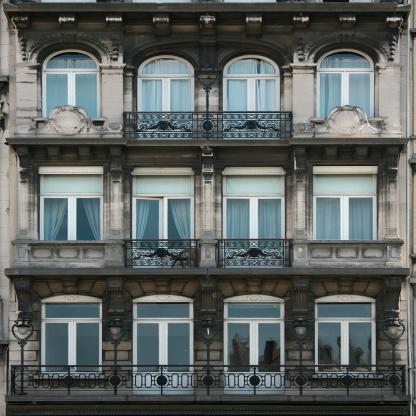Balcony: (9, 364, 411, 401), (122, 112, 293, 141), (11, 241, 126, 269), (291, 240, 406, 268), (214, 239, 294, 269), (122, 239, 202, 268), (310, 117, 383, 138), (33, 117, 106, 138)
Building Outline: (2, 2, 412, 416)
Cornice: (291, 105, 403, 138), (13, 105, 125, 138), (303, 32, 389, 64), (27, 32, 113, 64), (130, 167, 196, 175), (221, 167, 287, 175), (312, 166, 378, 174), (39, 166, 104, 174)
Deco: (14, 276, 34, 320), (107, 275, 126, 319), (199, 275, 218, 319), (291, 275, 310, 319), (383, 275, 402, 319)
Facade: (10, 12, 407, 415)
Floor: (7, 12, 411, 145), (7, 145, 411, 275), (7, 275, 411, 401)
Floor Slab: (7, 138, 411, 145), (7, 268, 411, 275), (7, 395, 411, 401)
Ground Floor: (7, 401, 411, 416)
Molding: (6, 12, 408, 40)
Pillar: (375, 63, 404, 138), (12, 63, 41, 138), (98, 63, 127, 138), (289, 63, 318, 138)
Window: (313, 195, 377, 268), (40, 196, 103, 268), (224, 321, 285, 395), (223, 197, 286, 268), (132, 197, 195, 268), (133, 321, 193, 395), (42, 71, 100, 138), (317, 71, 375, 138), (223, 76, 280, 139), (138, 76, 194, 140), (41, 321, 102, 375), (315, 321, 376, 375), (40, 174, 103, 196), (313, 174, 377, 195), (223, 175, 286, 196), (132, 175, 195, 196), (317, 49, 375, 71), (42, 49, 99, 71), (223, 55, 280, 76), (223, 302, 285, 321), (138, 55, 194, 76), (315, 302, 376, 321), (133, 302, 194, 321), (41, 303, 102, 321), (314, 294, 376, 302), (223, 294, 285, 302), (41, 295, 102, 303), (132, 294, 193, 302)
